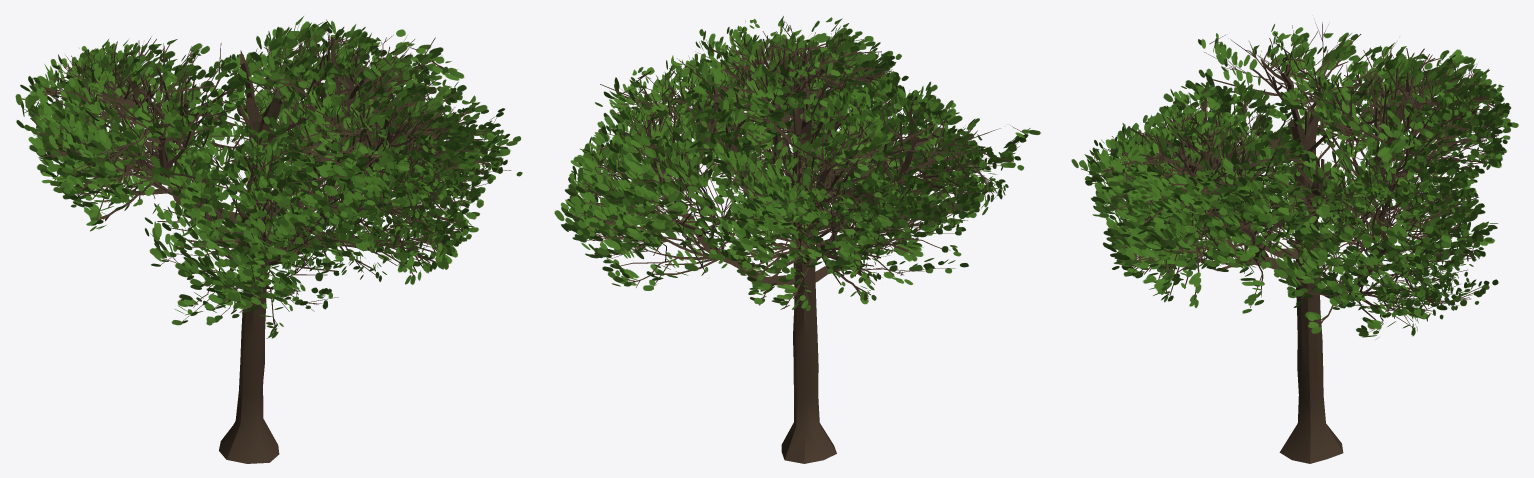
3 renders of one model, left to right at view 1: azimuth 30°, elevation 25°; view 2: azimuth 150°, elevation 25°; view 3: azimuth 270°, elevation 25°, orthographic. The views are drawn at different scales.
Visible parts, largest first — view 1: oak 01.001_trunk_Mat.001_0.157; view 2: oak 01.001_trunk_Mat.001_0.157; view 3: oak 01.001_trunk_Mat.001_0.157.
Part boxes in pixels (box(x1,y1,x2,y2)): oak 01.001_trunk_Mat.001_0.157: box(15, 16, 522, 463); oak 01.001_trunk_Mat.001_0.157: box(554, 16, 1040, 463); oak 01.001_trunk_Mat.001_0.157: box(1071, 22, 1518, 463).
Bounding box in the file's own units: 4.42 × 3.77 × 4.32.
2 materials, 1 textured.
